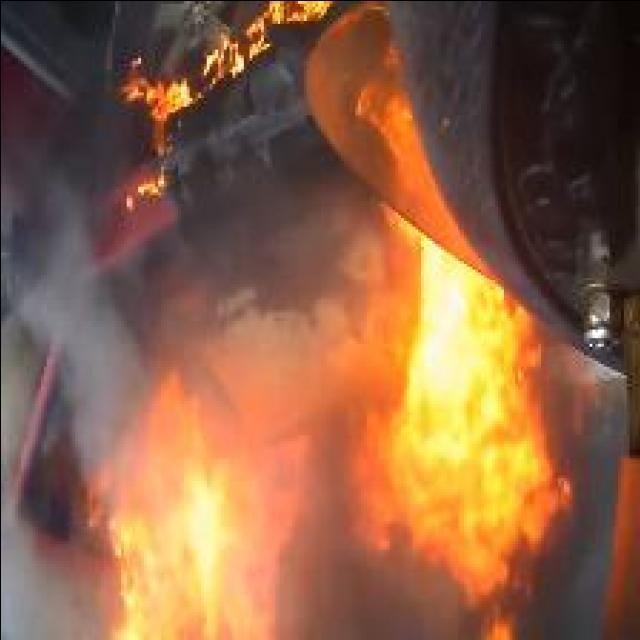Fire: (352, 194, 572, 640), (121, 2, 333, 208), (109, 366, 249, 640)
